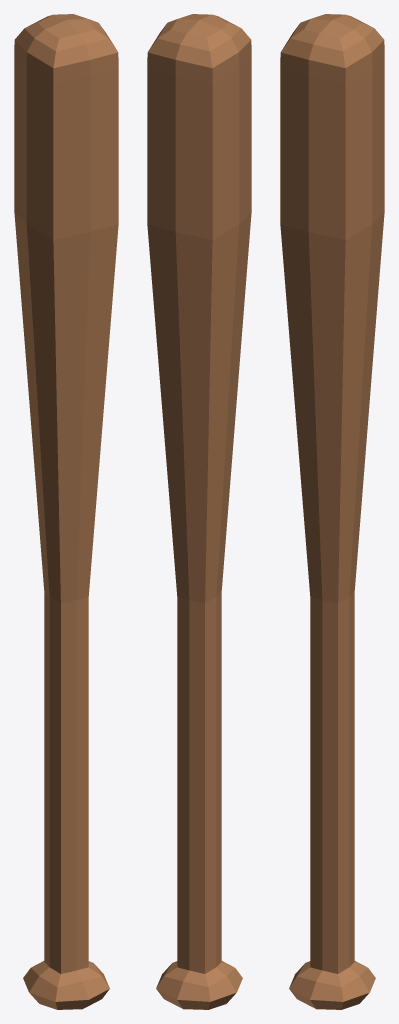
File: SM_BaseballBat.glb
3 views of the same model, side by side, from view 1: azimuth 30°, elevation 25°; view 2: azimuth 150°, elevation 25°; view 3: azimuth 330°, elevation 25° (orthographic).
Parts seen in each view (by area): view 1: Cube; view 2: Cube; view 3: Cube.
Boxes of the visible parts, box(x1,y1,x2,y2) form: Cube: box(14, 14, 118, 1009); Cube: box(147, 14, 251, 1009); Cube: box(280, 14, 384, 1009).
Bounding box in the file's own units: 0.1875 × 2.21 × 0.1946.
